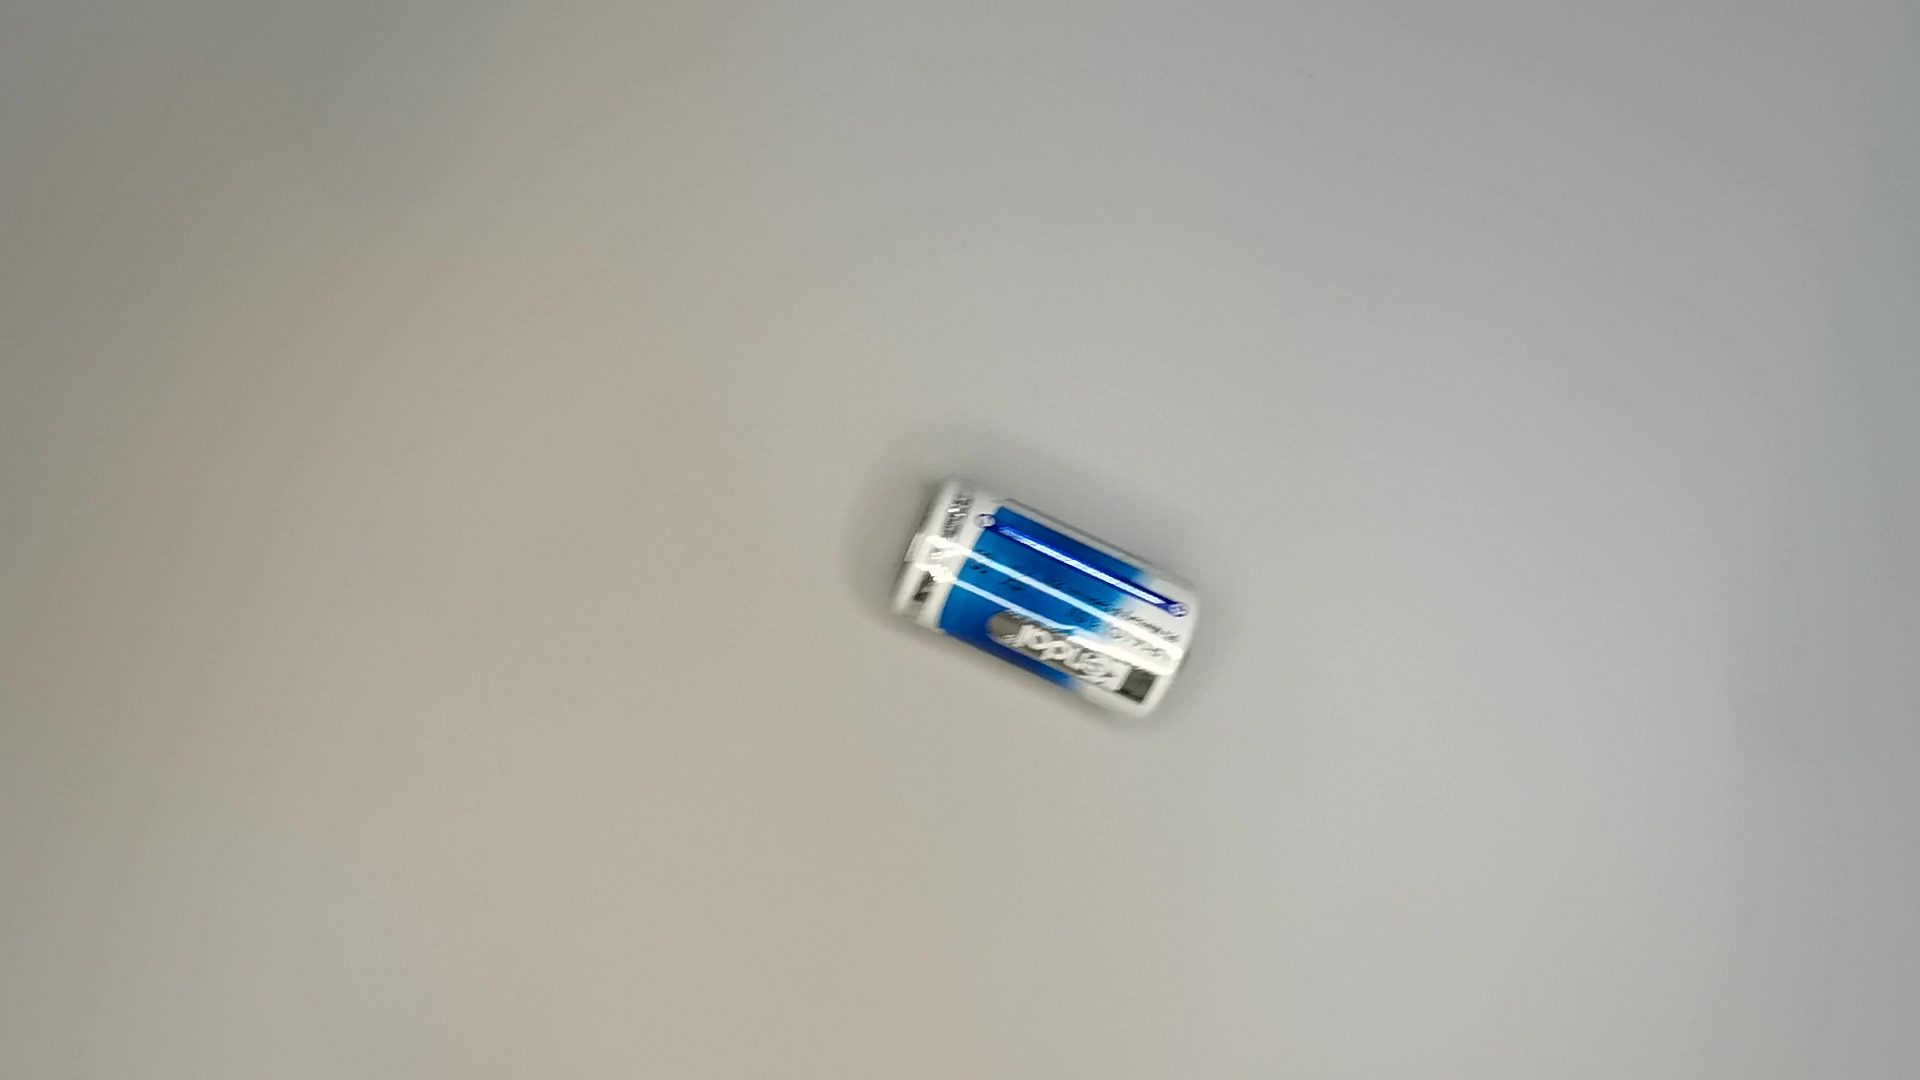battery: (885, 468, 1211, 732)
